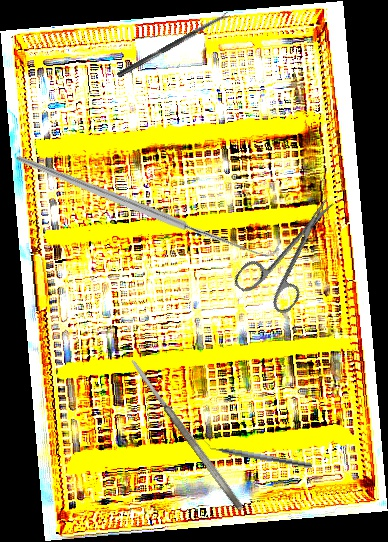Chopper: (201, 438, 314, 469)
Hook Surgical: (14, 63, 282, 345)
Iris Scissors: (231, 183, 357, 321)
Spatula Surgical: (127, 355, 246, 513)
Surgical Spoon: (116, 11, 231, 79)
